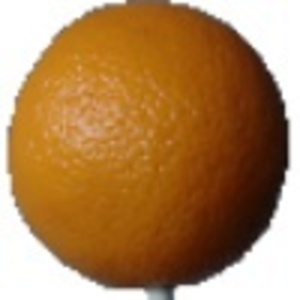laranja: (9, 2, 292, 294)
